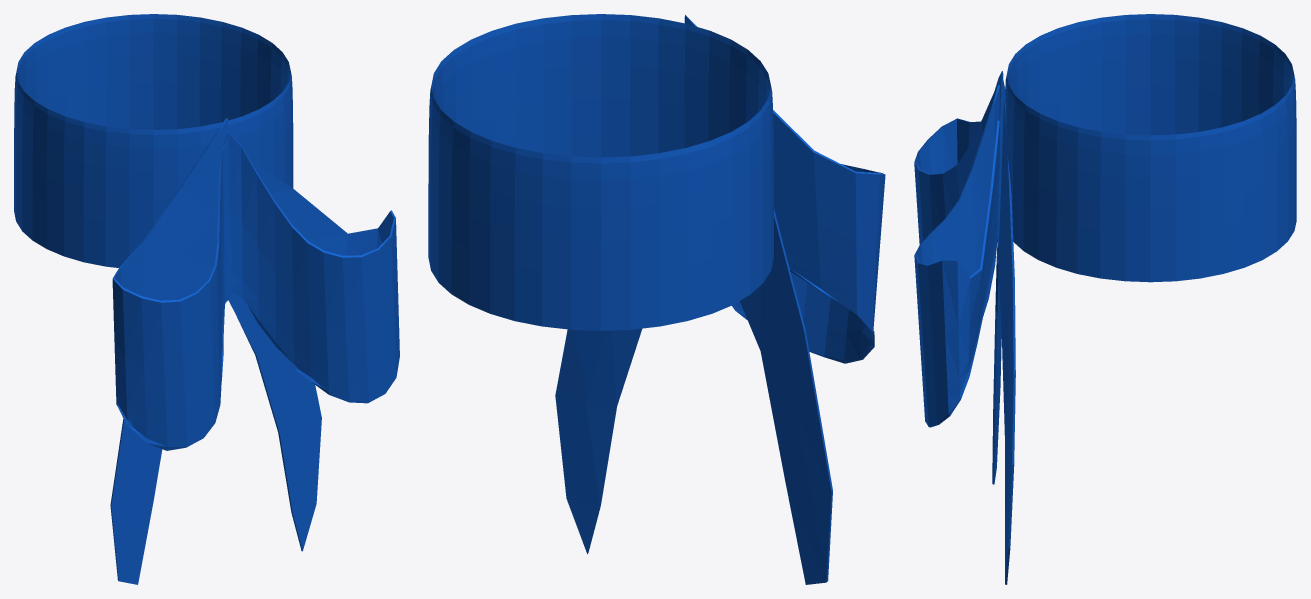
File: bant_blue.dae
3 renders of one model, left to right at view 1: azimuth 30°, elevation 25°; view 2: azimuth 150°, elevation 25°; view 3: azimuth 270°, elevation 25°, orthographic. The views are drawn at different scales.
Parts seen in each view (by area): view 1: Circle; view 2: Circle; view 3: Circle.
Boxes of the visible parts, x1,y1,x2,y2 form: Circle: [14, 14, 399, 584]; Circle: [428, 14, 885, 584]; Circle: [914, 14, 1296, 584].
Bounding box in the file's own units: 0.8977 × 1 × 1.37.
